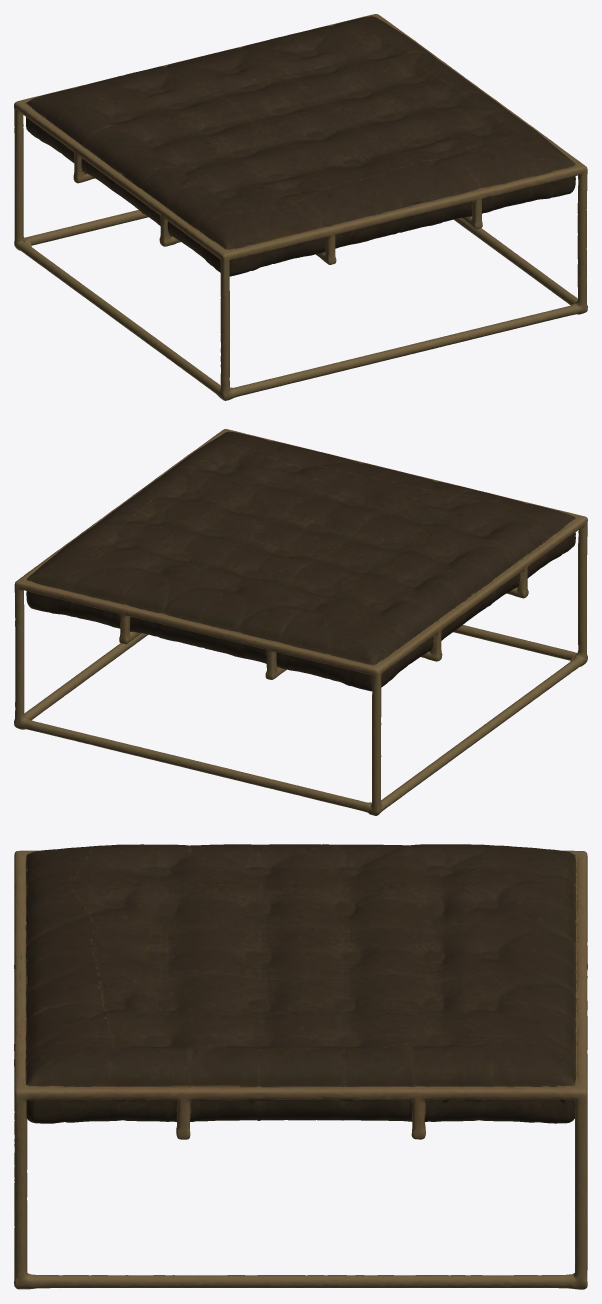
The model's file is item-8.glb.
3 renders of one model, top to bottom at view 1: azimuth 30°, elevation 25°; view 2: azimuth 150°, elevation 25°; view 3: azimuth 270°, elevation 25°, orthographic. The views are drawn at different scales.
Parts seen in each view (by area): view 1: geometry_0; view 2: geometry_0; view 3: geometry_0.
Part boxes in pixels (left/top/right/bottom): geometry_0: left=14, top=14, right=587, bottom=400; geometry_0: left=14, top=429, right=587, bottom=815; geometry_0: left=14, top=844, right=587, bottom=1289.
Size of the model in its own units: 1 by 0.4296 by 1.
Materials: 1 (1 with a texture image).
